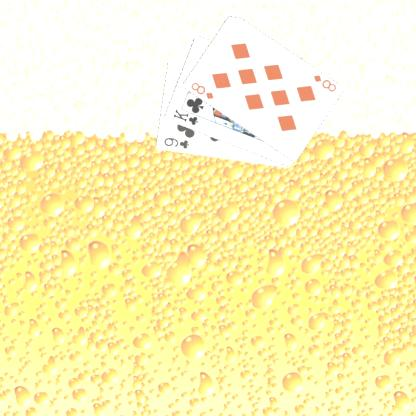8D: (311, 73, 337, 94), (188, 80, 215, 100)
9C: (161, 134, 190, 150)
KC: (170, 106, 204, 127)
